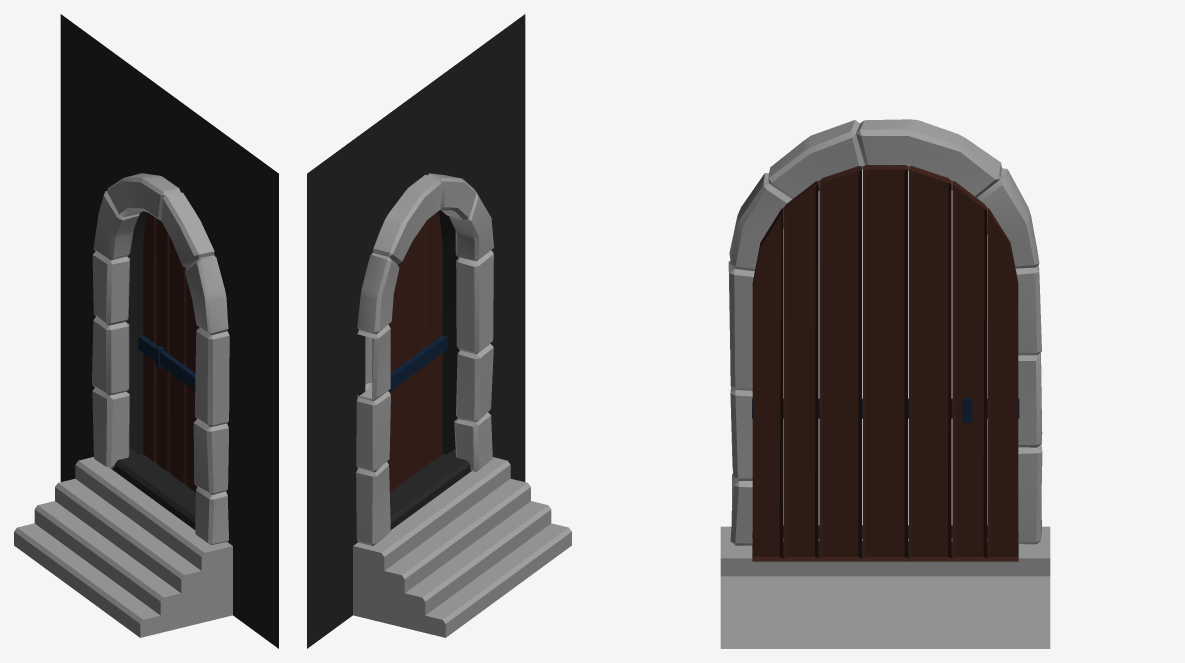
Rendered from standard_door_12.FBX.
3 renders of one model, left to right at view 1: azimuth 30°, elevation 25°; view 2: azimuth 150°, elevation 25°; view 3: azimuth 270°, elevation 25°, orthographic. The views are drawn at different scales.
Visible parts, largest first — view 1: standard_door_12; view 2: standard_door_12; view 3: standard_door_12.
Part boxes in pixels (x1,y1,x2,y2): standard_door_12: (14,14,278,648); standard_door_12: (307,14,571,648); standard_door_12: (720,119,1050,648).
Bounding box in the file's own units: 81.58 × 297 × 247.
